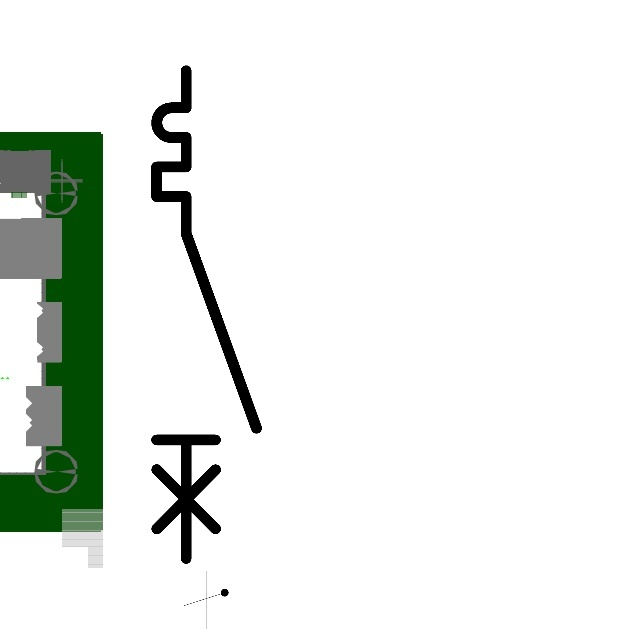interruptor_termomagnetico: (144, 58, 269, 571)
